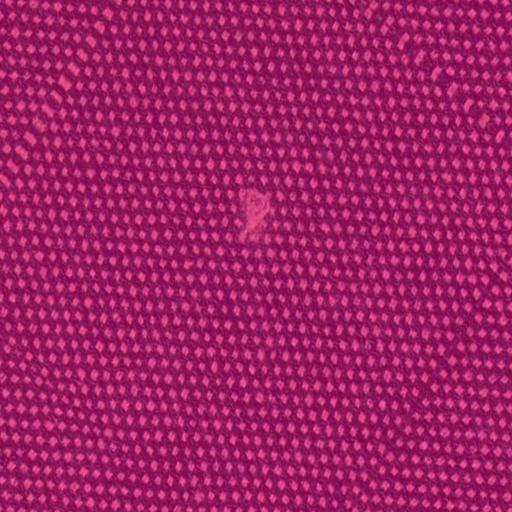knot: (229, 180, 280, 248)
